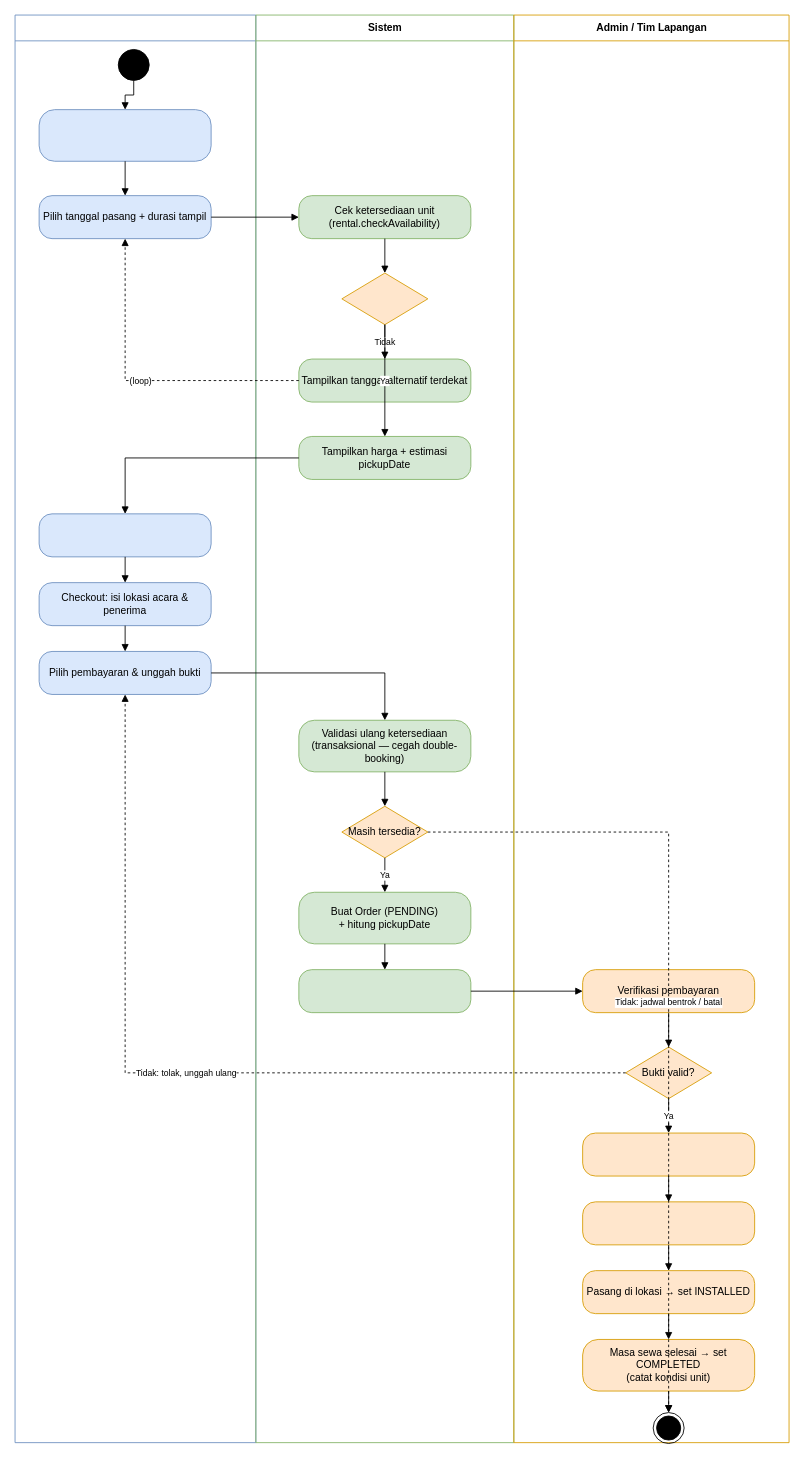
This 804x1459 diagram has some shape labels left out. Each missing label, with the box of its shape:
Pelanggan: (14, 14, 256, 1443)
Pilih produk & opsi (ukuran, template, warna, add-on): (38, 109, 211, 161)
Set CONFIRMED: (582, 1132, 755, 1176)
Set jadwal pasang (SCHEDULED): (582, 1201, 755, 1245)
Tambah ke keranjang: (38, 513, 211, 557)
Tampilkan konfirmasi + nomor pesanan: (298, 969, 471, 1013)
Tersedia?: (341, 272, 428, 325)
